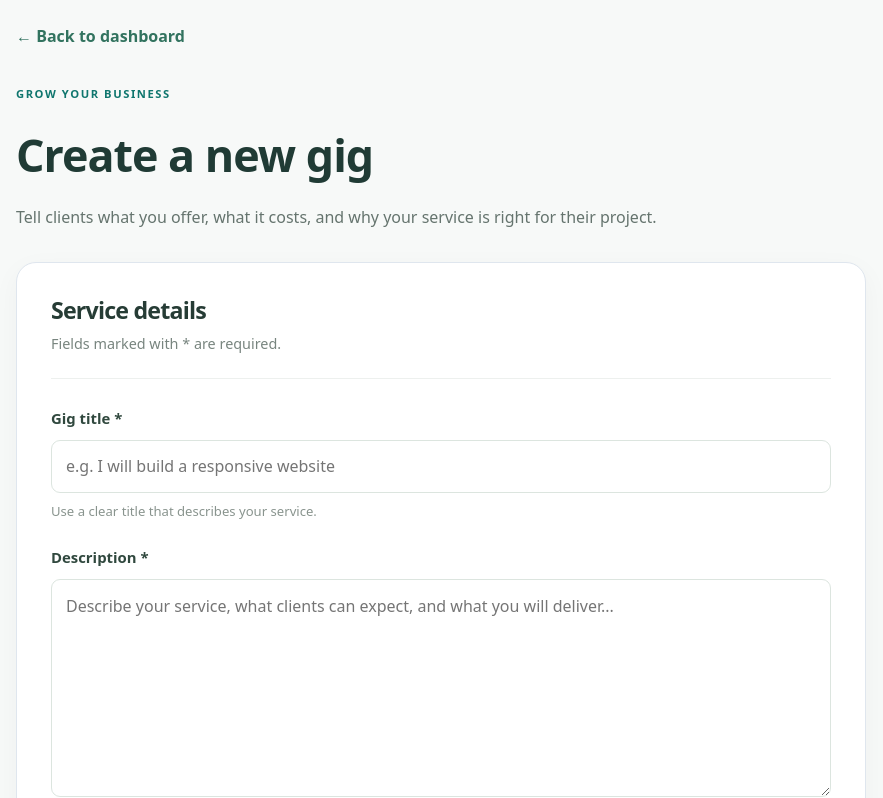
Scenario: CreateGig Component › validates minimum description length requirement
Type "Full Stack Service" into the field labelled "Gig title *".
click(441, 466); type("Full Stack Service")  # box left=51, top=440, right=831, bottom=493
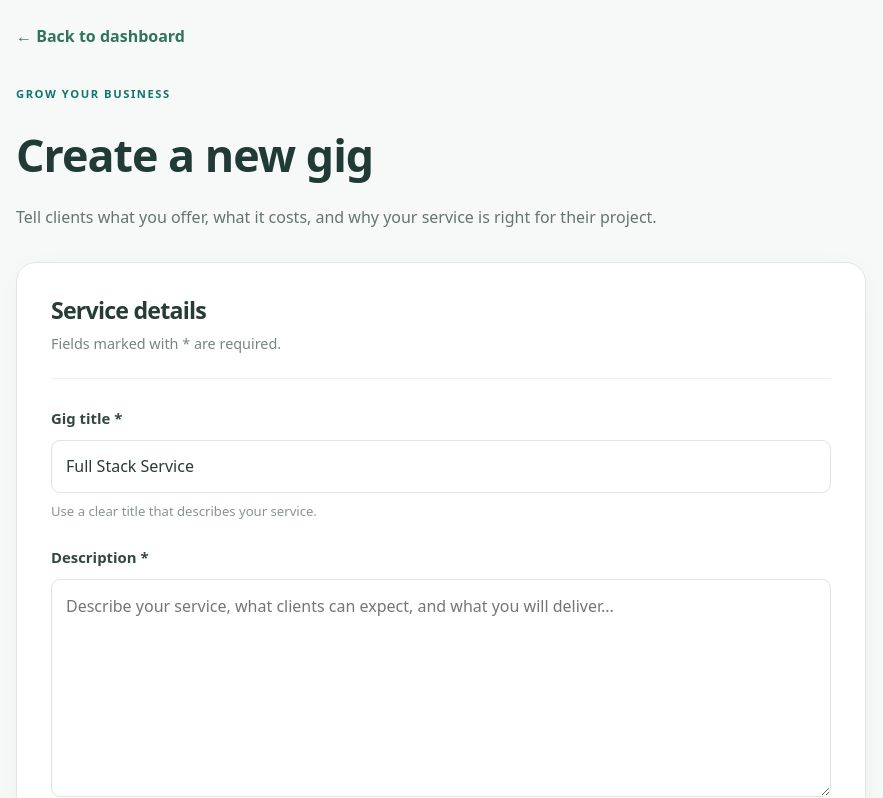
Replace the text in the text box labelled "Description *" with "Short text" at (441, 688), box left=51, top=579, right=831, bottom=797
(page scrolled)
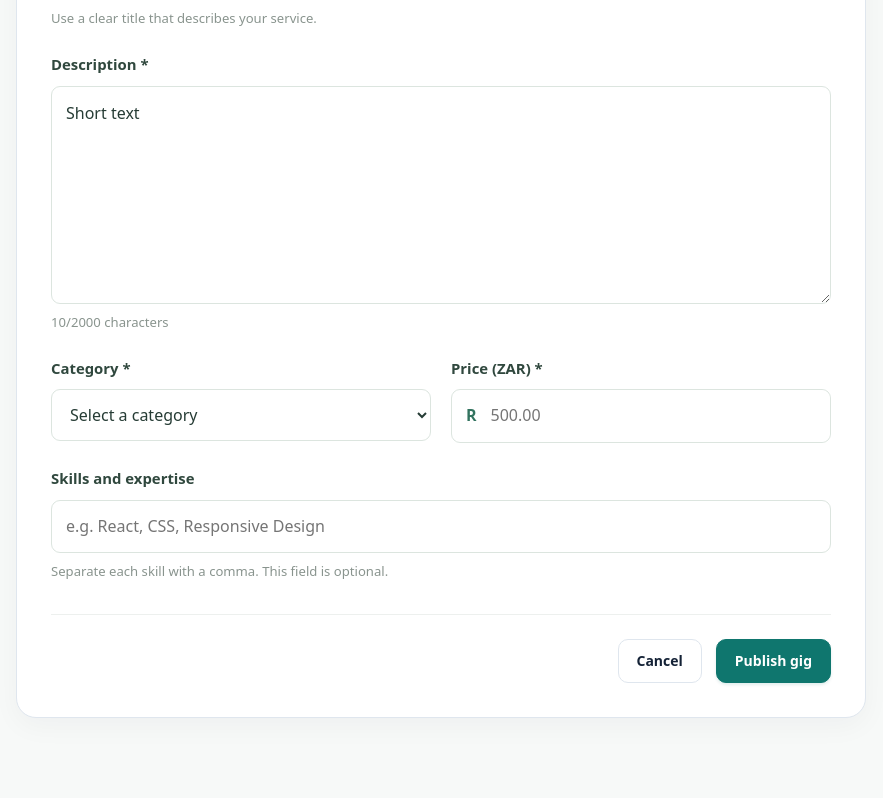
Select "Web Development" in the dropdown labelled "Category *" at (241, 416), box left=51, top=390, right=431, bottom=442
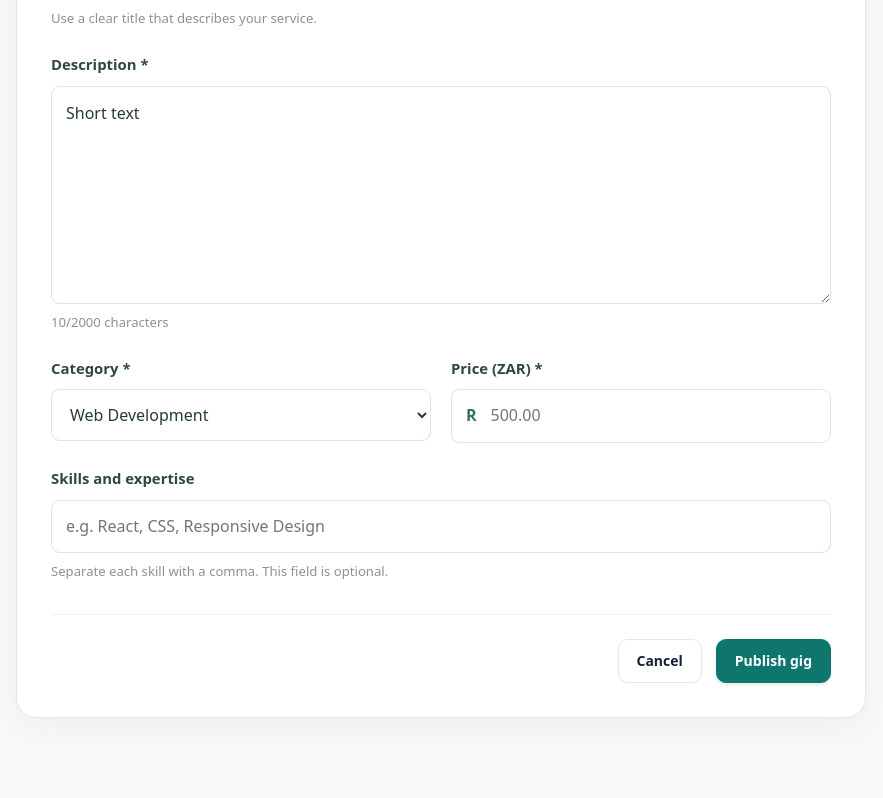
Type "500" into the number field labelled "Price (ZAR) *".
click(653, 416); type("500")  # box left=477, top=390, right=830, bottom=442
(page scrolled)
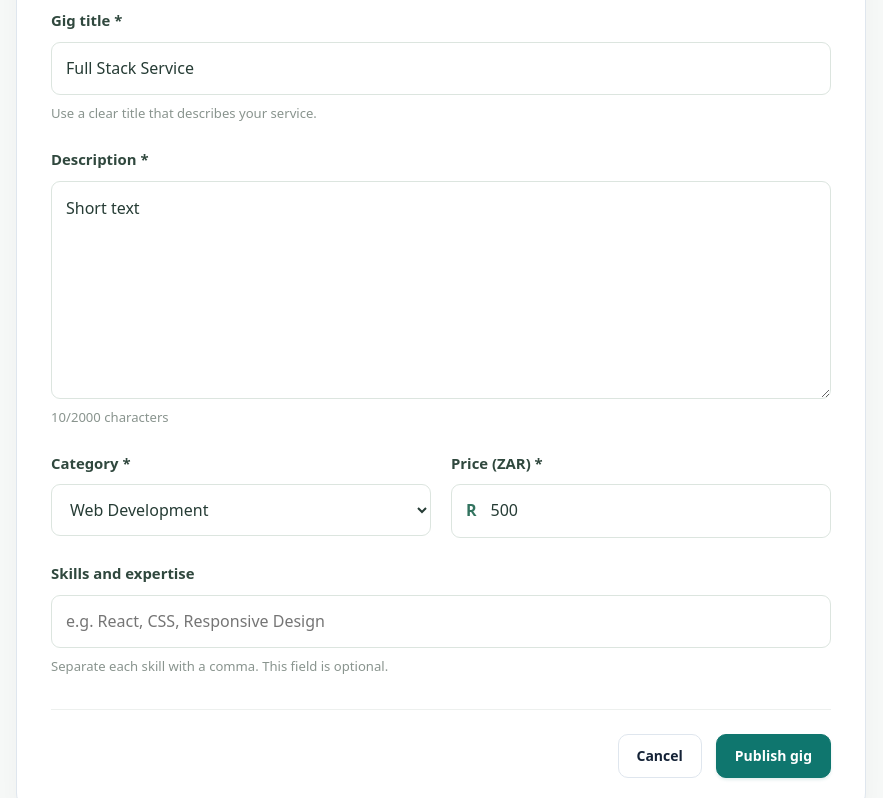
Submit the form named "Publish gig"
(page scrolled)
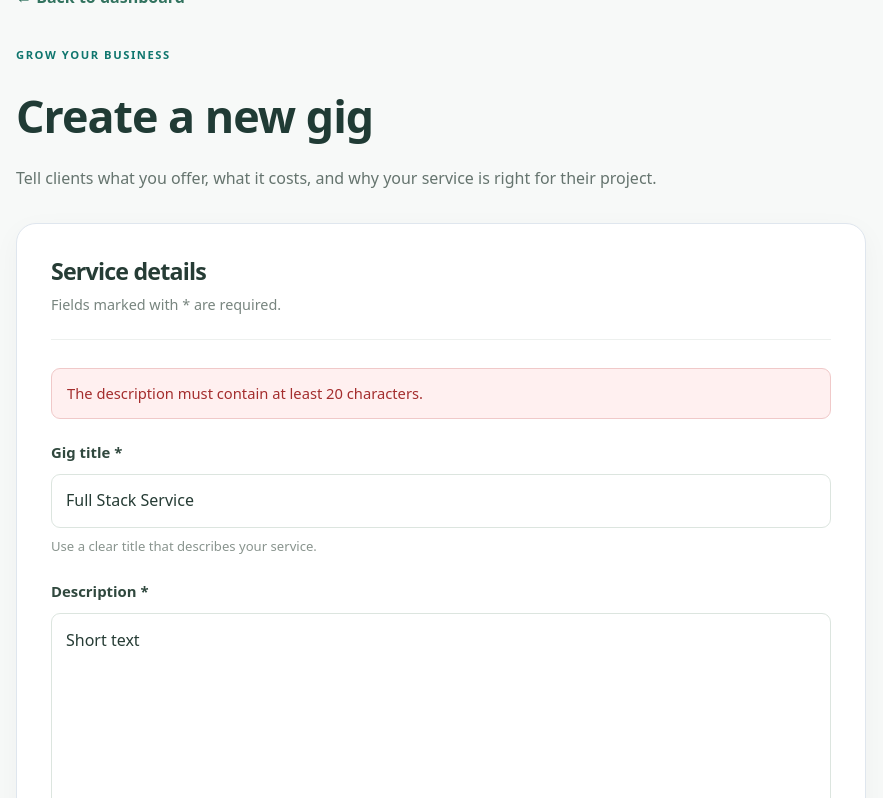
Result: the text "The description must contain at least 20 characters." is shown at left=51, top=368, right=831, bottom=419
